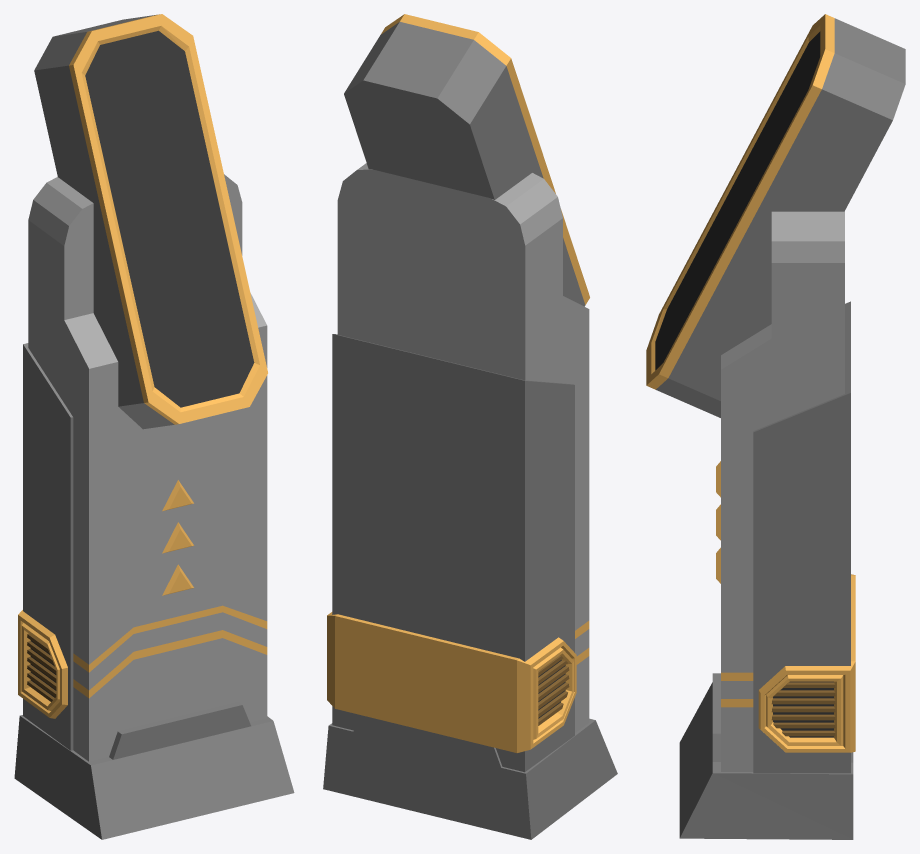
The model's file is props_computer.obj.
The picture shows the model from 3 angles, left to right: view 1: azimuth 30°, elevation 25°; view 2: azimuth 150°, elevation 25°; view 3: azimuth 270°, elevation 25°; orthographic projection. The views are drawn at different scales.
Visible parts, largest first — view 1: props_computer; view 2: props_computer; view 3: props_computer.
Boxes of the visible parts, x1,y1,x2,y2 form: props_computer: [14, 14, 294, 839]; props_computer: [323, 14, 617, 839]; props_computer: [646, 14, 905, 839].
Bounding box in the file's own units: 0.5804 × 2.08 × 0.6441.
